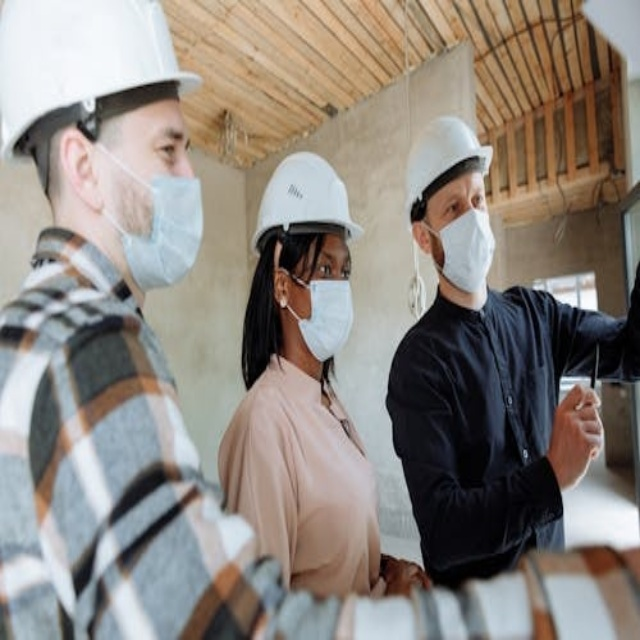Mascara: (103, 141, 204, 294), (281, 265, 352, 362), (425, 202, 494, 294)
Sin_gafas: (133, 113, 193, 169), (312, 242, 355, 283), (434, 185, 492, 215)
Sin_guantes: (550, 382, 607, 480), (378, 554, 430, 598)
